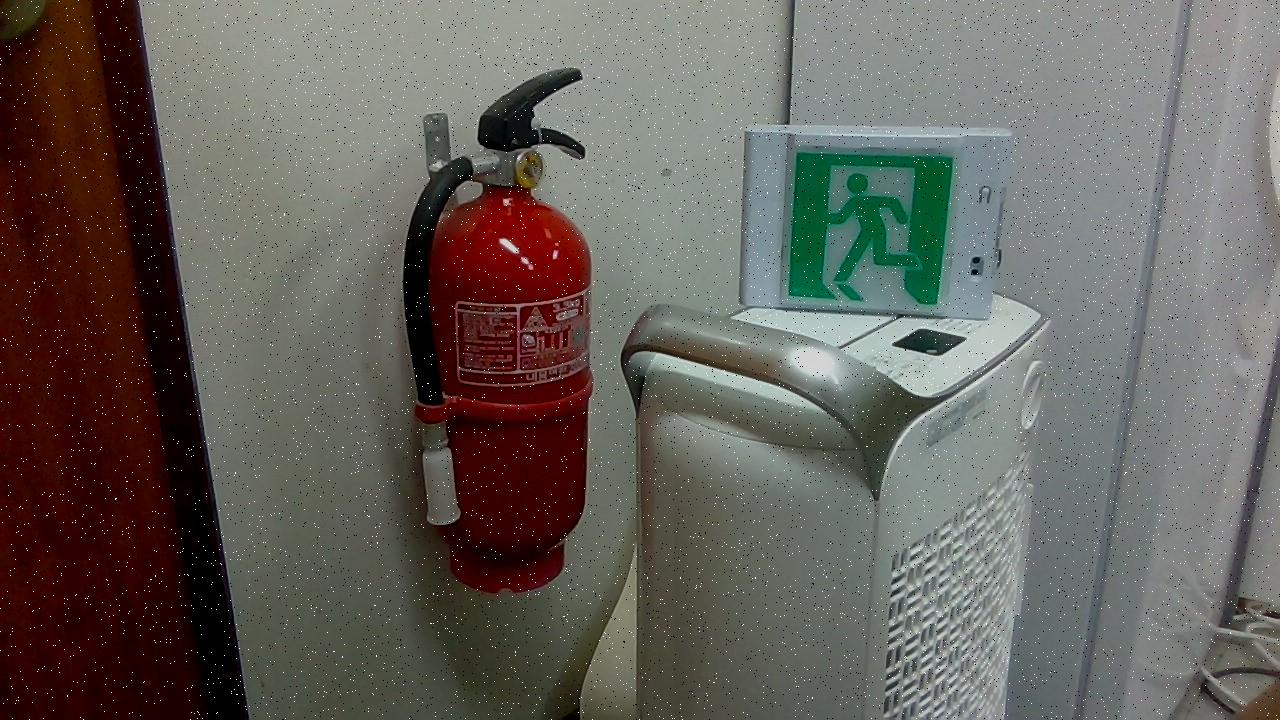emergency_exit: (401, 66, 596, 595), (739, 123, 1015, 321)
